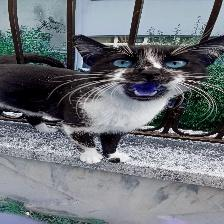kedo: (3, 33, 224, 163)
